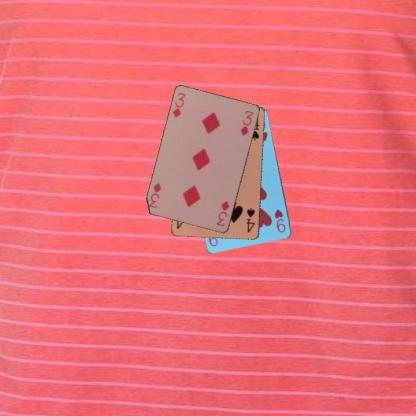3d: (171, 90, 188, 119), (214, 198, 230, 228)
4s: (244, 206, 256, 234)
9h: (272, 206, 287, 234)
